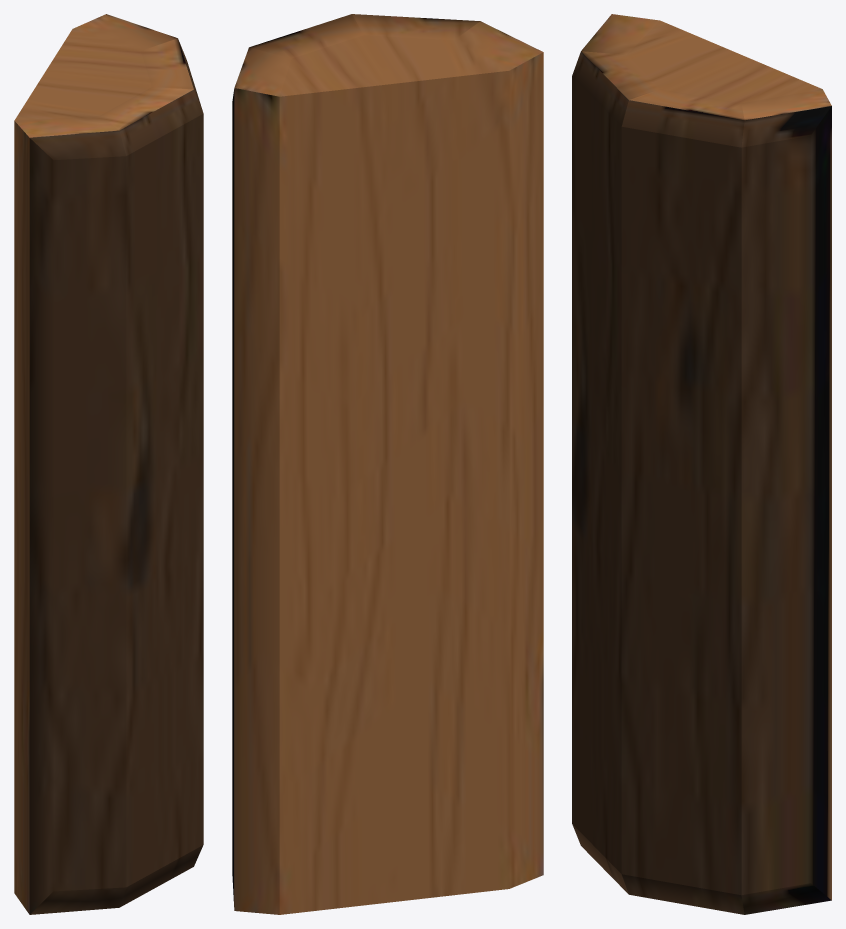
The model's file is Wood Piece.FBX.
3 renders of one model, left to right at view 1: azimuth 30°, elevation 25°; view 2: azimuth 150°, elevation 25°; view 3: azimuth 270°, elevation 25°, orthographic. The views are drawn at different scales.
Parts seen in each view (by area): view 1: Object005; view 2: Object005; view 3: Object005.
Part boxes in pixels (bbox=[...]): Object005: bbox=[14, 14, 203, 914]; Object005: bbox=[232, 14, 543, 914]; Object005: bbox=[572, 14, 831, 914].
Size of the model in its own units: 26.43 by 88.89 by 26.35.
